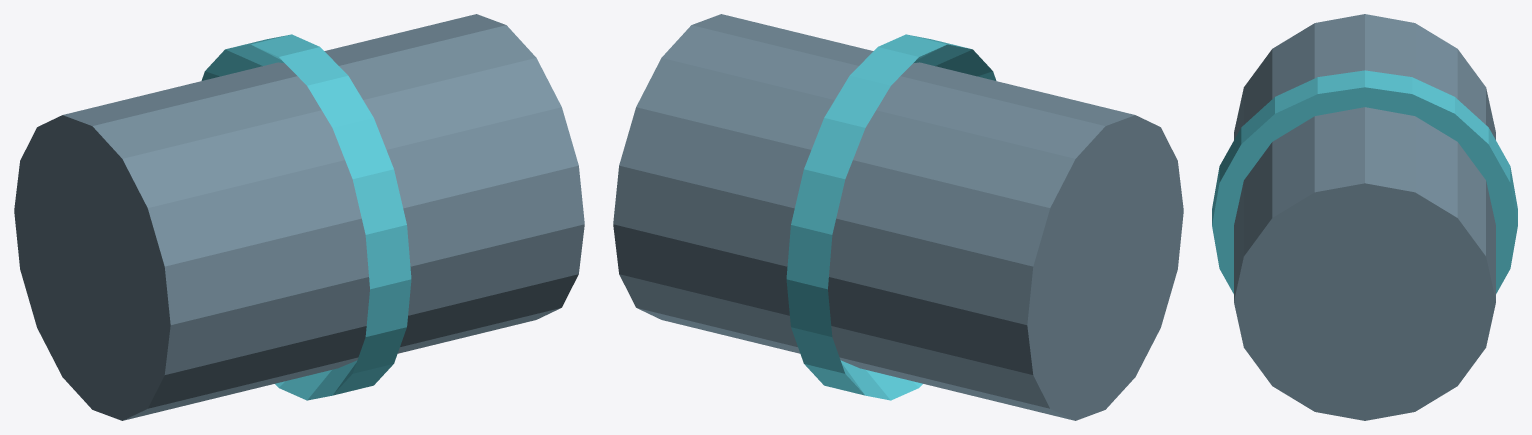
The model's file is 30_L69_RefrigerantMassFlowMeter.glb.
3 views of the same model, side by side, from view 1: azimuth 30°, elevation 25°; view 2: azimuth 150°, elevation 25°; view 3: azimuth 270°, elevation 25° (orthographic). The views are drawn at different scales.
Parts seen in each view (by area): view 1: RefrigerantMassFlowMeter_Part_000, RefrigerantMassFlowMeter_Part_001; view 2: RefrigerantMassFlowMeter_Part_000, RefrigerantMassFlowMeter_Part_001; view 3: RefrigerantMassFlowMeter_Part_000, RefrigerantMassFlowMeter_Part_001.
Part boxes in pixels (x1,y1,x2,y2): RefrigerantMassFlowMeter_Part_000: (14,14,584,420); RefrigerantMassFlowMeter_Part_001: (201,34,411,400); RefrigerantMassFlowMeter_Part_000: (613,14,1183,420); RefrigerantMassFlowMeter_Part_001: (786,34,996,400); RefrigerantMassFlowMeter_Part_000: (1234,14,1495,420); RefrigerantMassFlowMeter_Part_001: (1212,70,1517,293).
Bounding box in the file's own units: 0.55 × 0.42 × 0.42.
